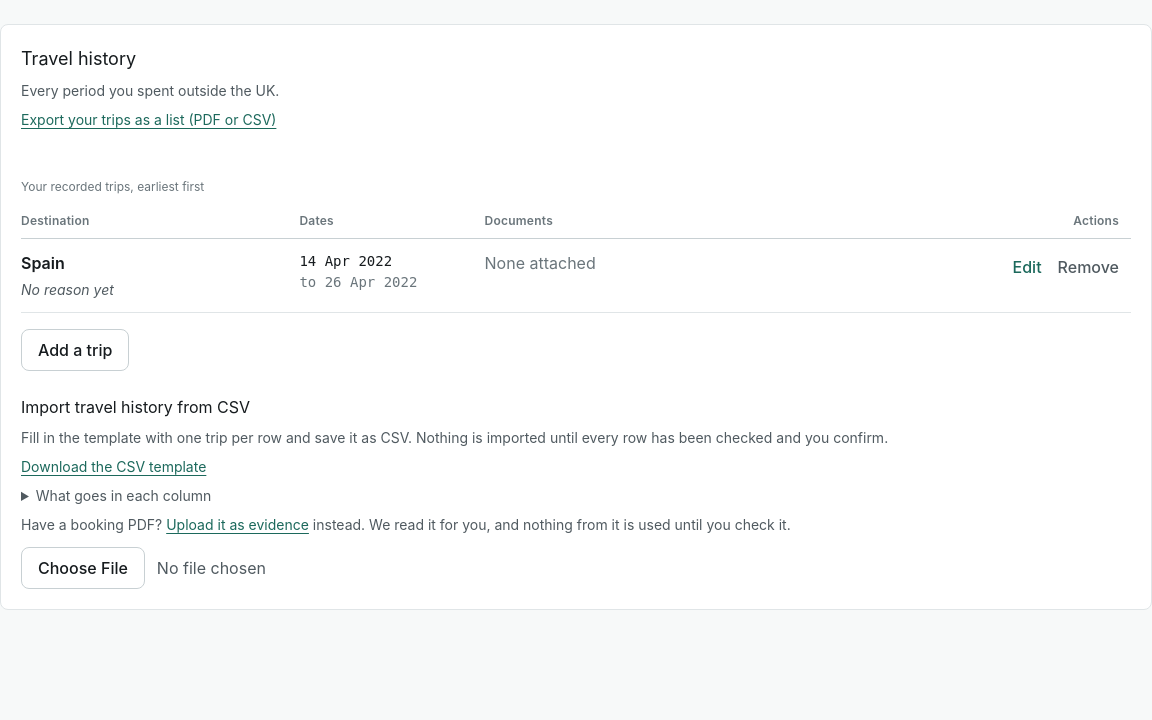
TravelHistory › the trip dialog's layout › shows an existing note on edit rather than hiding it
Click the button "Edit". click: (1027, 267)
box: [1013,251,1042,283]
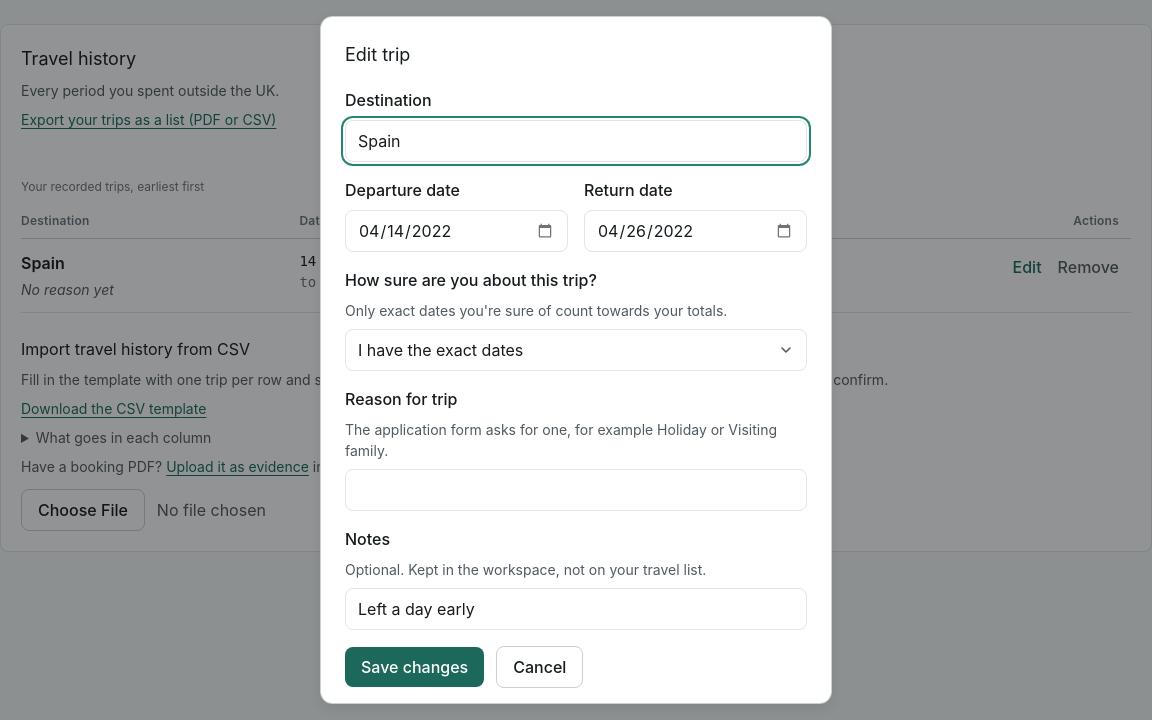
Expected: the field labelled "Notes" holds "Left a day early", [345,588,807,630]
